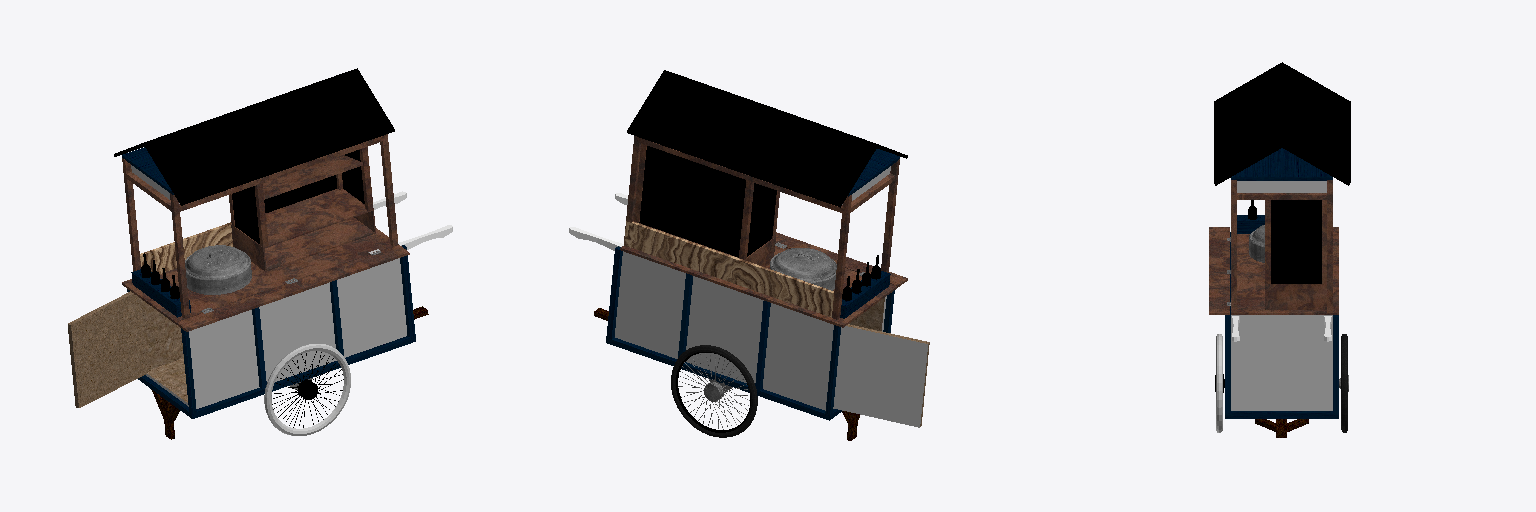
3 views of the same model, side by side, from view 1: azimuth 30°, elevation 25°; view 2: azimuth 150°, elevation 25°; view 3: azimuth 270°, elevation 25° (orthographic).
Parts seen in each view (by area): view 1: main_body, roof, stove_door, foodbox, holder_pillar_1, bodybase, wood_frame, flipable_plank, Torus, edge_plank, pot_cap, holder_plank (+9 smaller); view 2: main_body, roof, glass_wide, stove_door, edge_plank, holder_pillar_1, wood_frame, bodybase, wheel_and_rim, pot_cap, glass_2, 2_wood_frame_ (+6 smaller); view 3: roof, main_body, glass_1, holder_pillar_1, bodybase, wood_frame, top_plank, flipable_plank, foodbox, foodstock_stand, Torus, wheel_and_rim (+1 smaller).
Part boxes in pixels (bbox=[...]): main_body: bbox=[141, 258, 406, 408]; roof: bbox=[114, 68, 394, 205]; stove_door: bbox=[68, 291, 147, 407]; foodbox: bbox=[231, 189, 375, 271]; holder_pillar_1: bbox=[122, 134, 397, 317]; bodybase: bbox=[122, 228, 398, 323]; wood_frame: bbox=[127, 245, 415, 418]; flipable_plank: bbox=[176, 245, 409, 331]; Torus: bbox=[264, 344, 350, 435]; edge_plank: bbox=[140, 222, 232, 273]; pot_cap: bbox=[185, 245, 248, 278]; holder_plank: bbox=[263, 155, 362, 199]; main_body: bbox=[615, 251, 886, 410]; roof: bbox=[627, 70, 907, 207]; glass_wide: bbox=[639, 146, 745, 257]; stove_door: bbox=[833, 324, 929, 427]; edge_plank: bbox=[624, 221, 833, 317]; holder_pillar_1: bbox=[624, 136, 899, 319]; wood_frame: bbox=[606, 246, 894, 420]; bodybase: bbox=[620, 246, 896, 327]; wheel_and_rim: bbox=[671, 345, 757, 437]; pot_cap: bbox=[772, 248, 836, 280]; glass_2: bbox=[747, 183, 776, 256]; 2_wood_frame_: bbox=[678, 273, 770, 390]; roof: bbox=[1214, 62, 1350, 185]; main_body: bbox=[1231, 315, 1332, 410]; glass_1: bbox=[1271, 200, 1321, 283]; holder_pillar_1: bbox=[1231, 180, 1332, 312]; bodybase: bbox=[1231, 227, 1338, 314]; wood_frame: bbox=[1225, 232, 1338, 418]; top_plank: bbox=[1231, 148, 1332, 180]; flipable_plank: bbox=[1209, 227, 1229, 314]; foodbox: bbox=[1265, 284, 1326, 309]; foodstock_stand: bbox=[1265, 200, 1326, 283]; Torus: bbox=[1216, 334, 1222, 432]; wheel_and_rim: bbox=[1341, 334, 1347, 432].
Bounding box in the file's own units: 39.61 × 35.16 × 13.87.
35 materials, 30 textured.